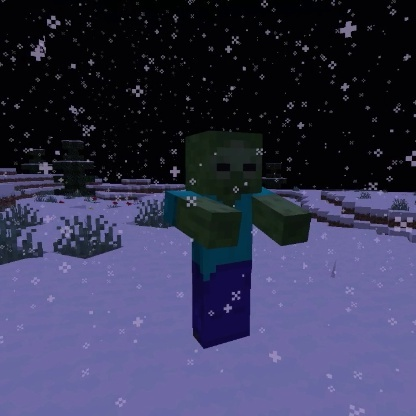zombie: (159, 125, 316, 355)
